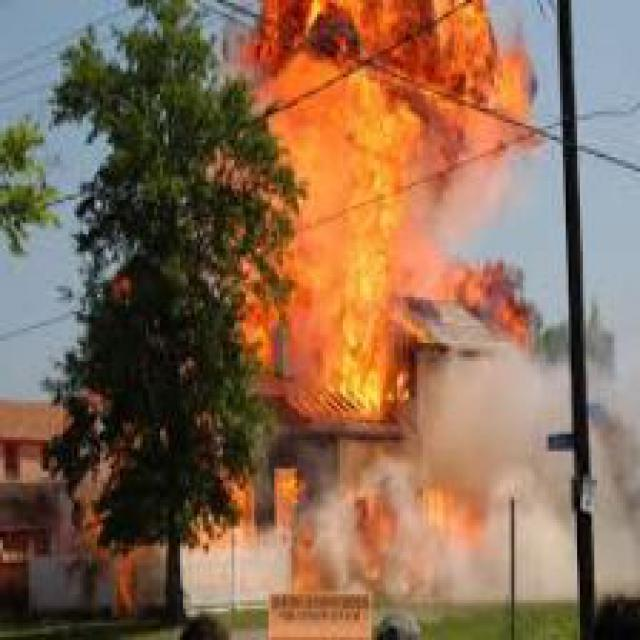fire: (203, 3, 546, 423), (217, 463, 497, 588)
